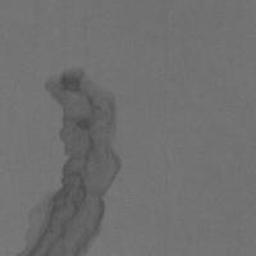Water spot: (14, 67, 123, 256)
